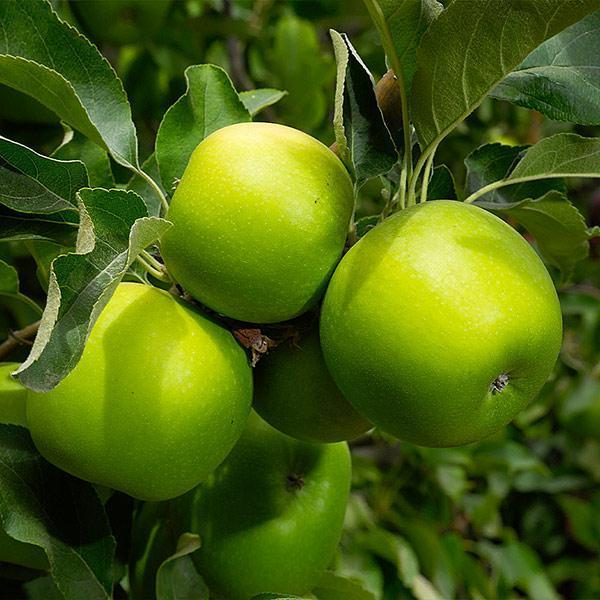apple: (312, 204, 555, 458), (24, 300, 251, 509), (157, 120, 352, 325), (186, 410, 356, 595)
